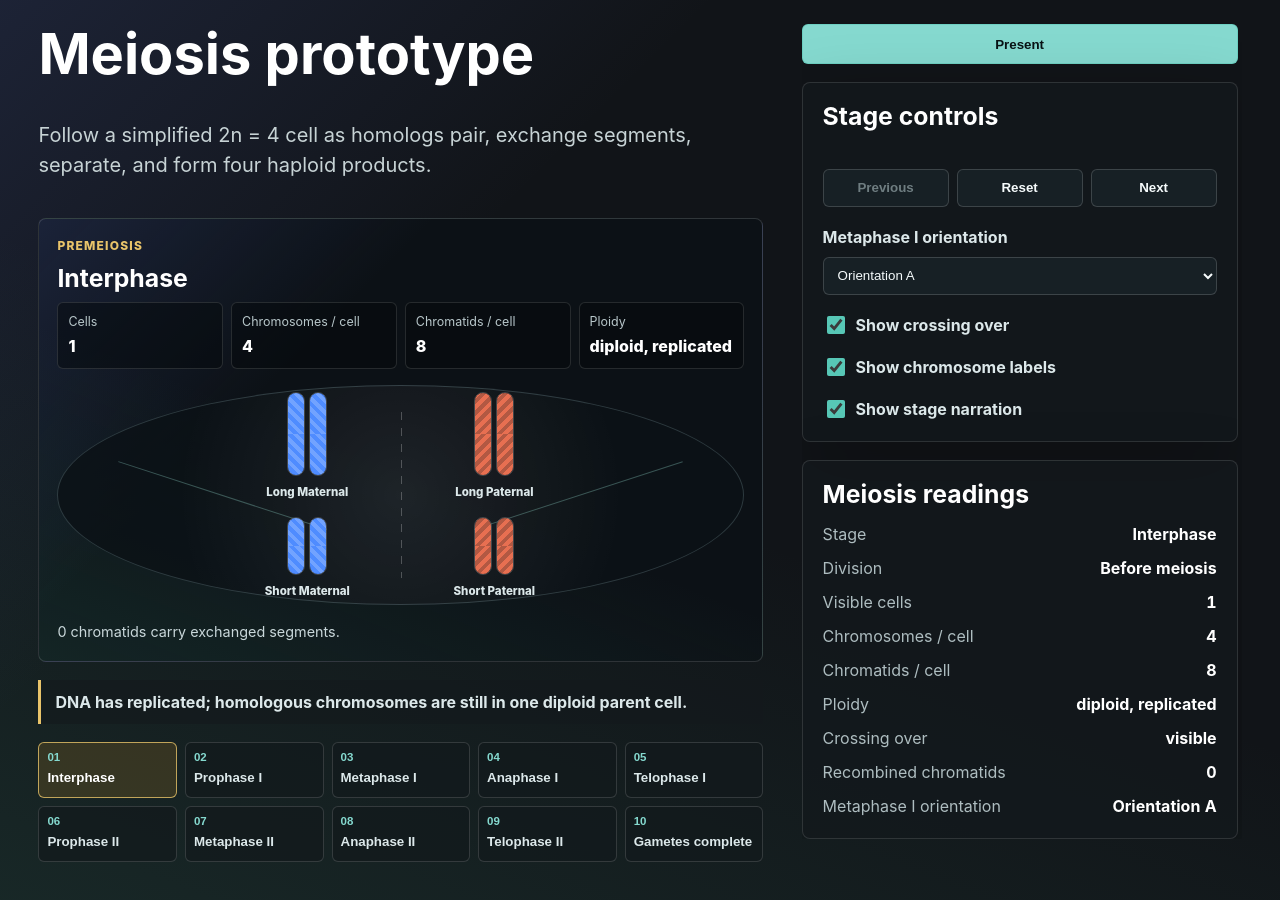
Test: MeiosisPrototype › locks orientation after Meiosis I products exist
The width and height of the screenshot is (1280, 900).
(page scrolled)
Step 1. Click the button with aria-label "05: Telophase I" → click(694, 770), box [625, 742, 763, 798]
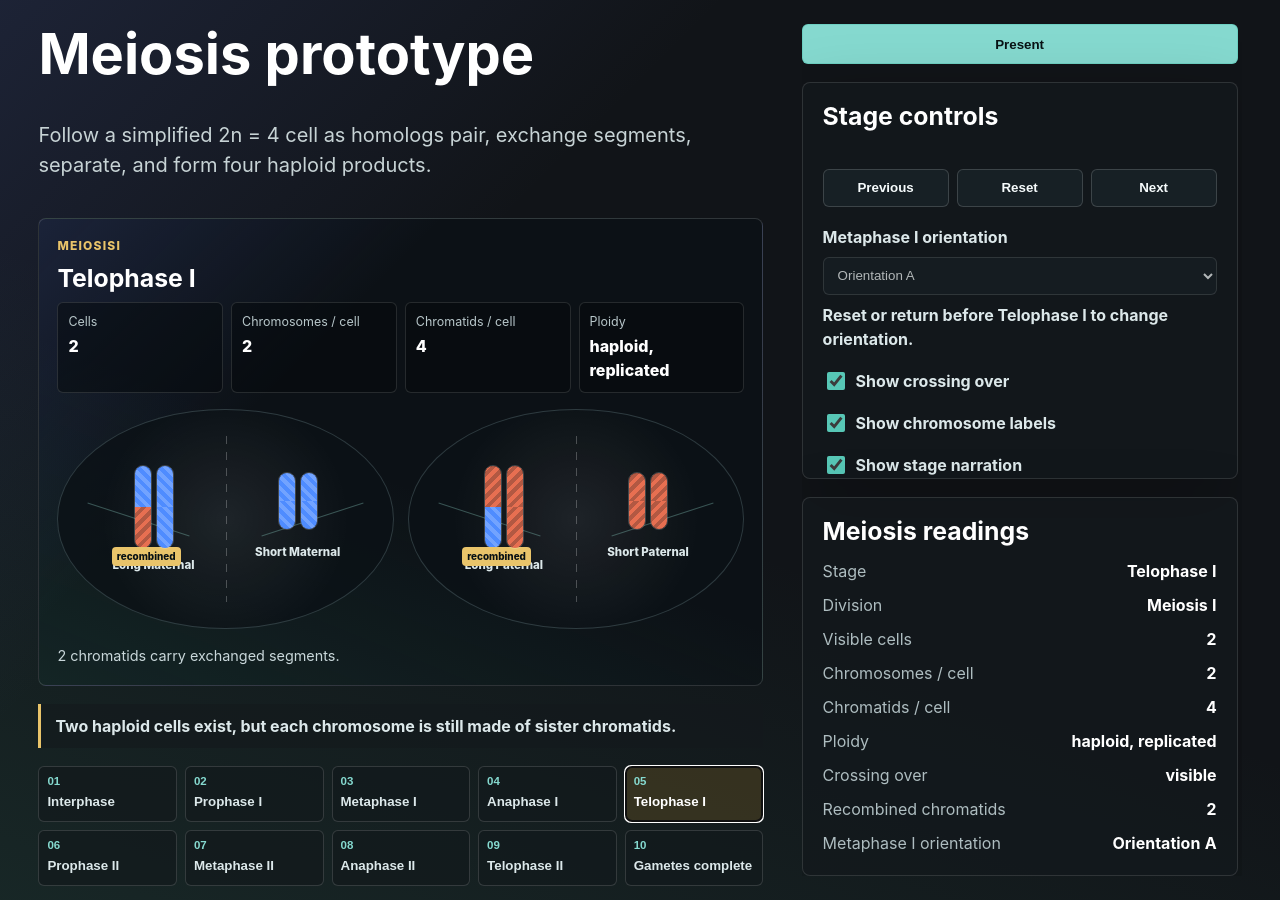
Expected: the dropdown labelled "Metaphase I orientation" is disabled, [823, 256, 1217, 294]
Expected: the text "Reset or return before Telophase I to change orientation." is shown, [823, 302, 1217, 350]
